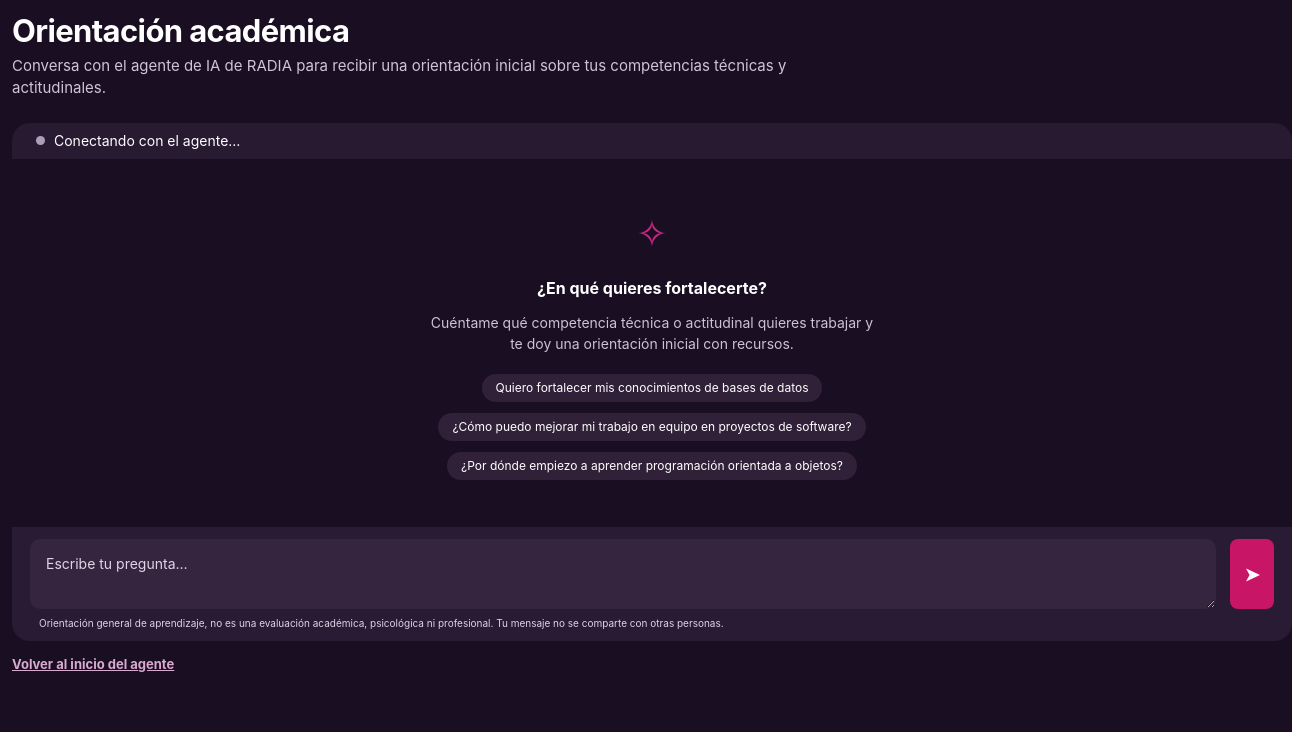
it: interfaz del chat orientativo › no presenta la sección de fuentes cuando el backend no recupera evidencia
The width and height of the screenshot is (1292, 732).
Type "Datos" into the text box named "Mensaje para el agente" at (623, 574), box [30,539,1216,609]
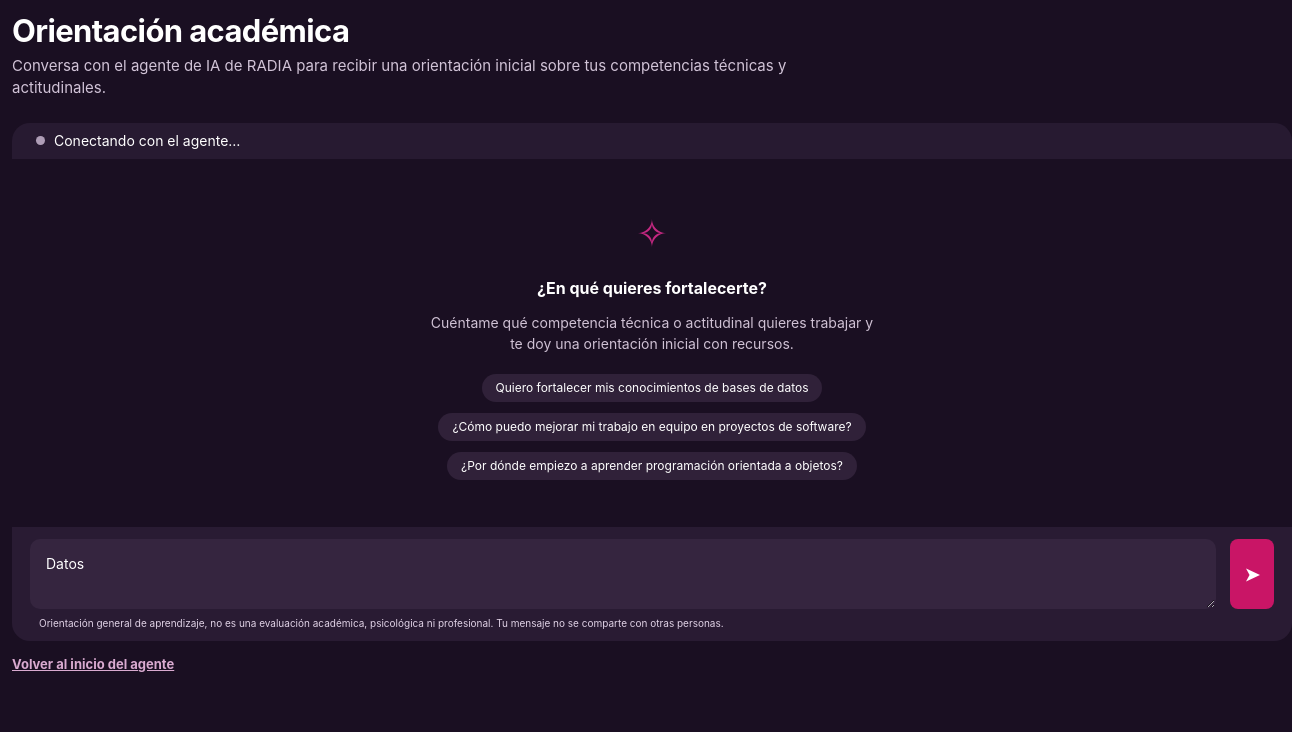
Click the button named "Enviar mensaje" at (1252, 574), box [1230,539,1274,609]
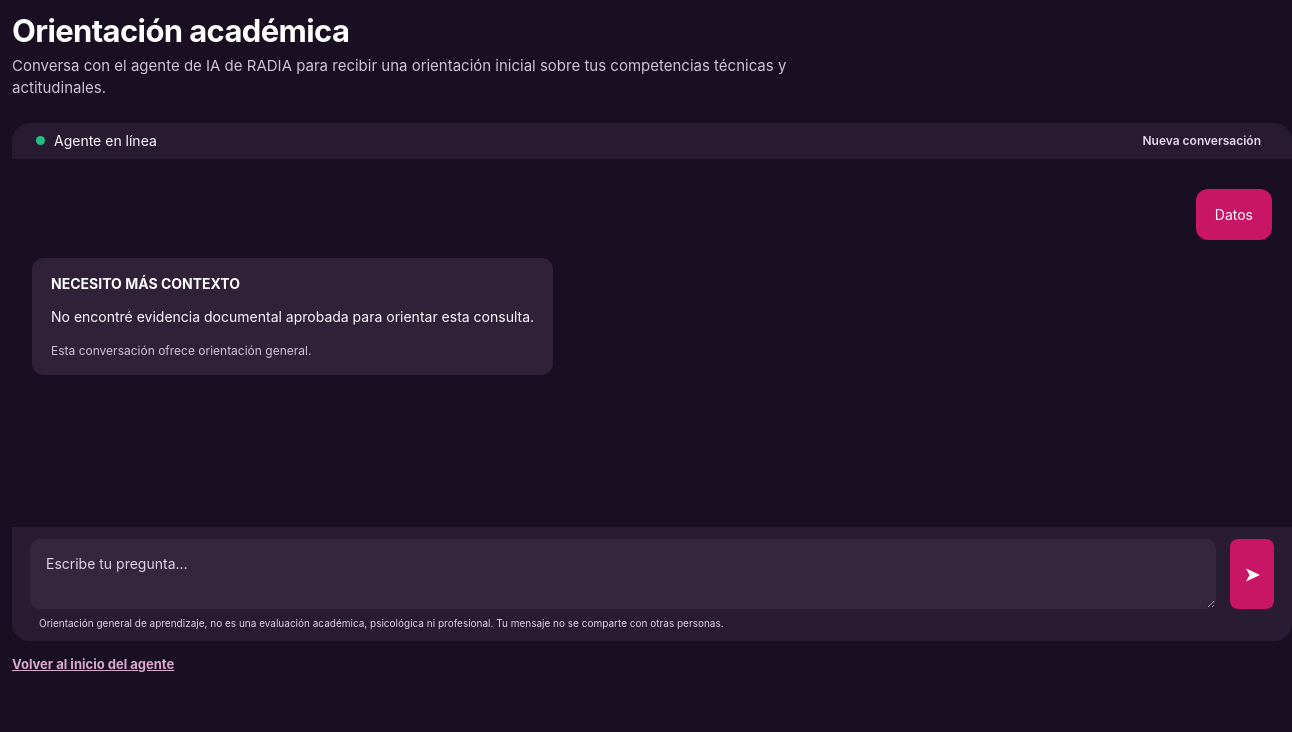
expect the text "No encontré evidencia documental" is shown: met, box [51,308,534,325]
